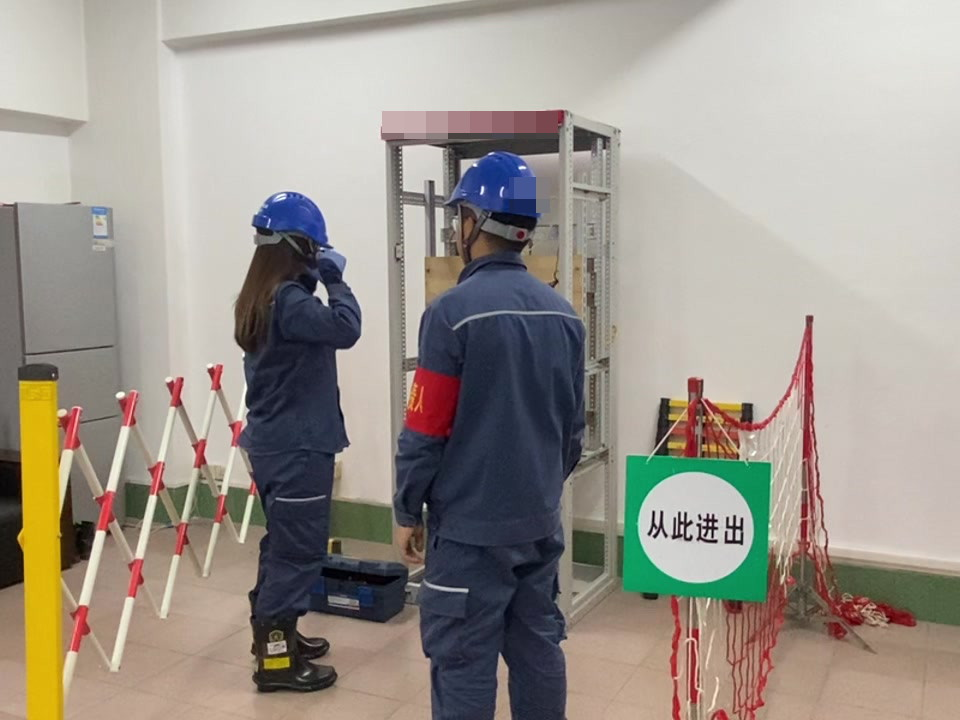badge: (404, 367, 463, 440)
downsuit: (417, 548, 571, 720), (245, 460, 340, 630)
glove: (300, 245, 348, 283)
hair: (233, 190, 329, 352)
halt: (446, 151, 546, 254)
hand: (394, 524, 428, 567)
inear: (454, 203, 491, 251)
intosign: (615, 446, 777, 609)
person: (391, 145, 594, 720), (226, 190, 366, 695)
shoe: (252, 617, 339, 693)
upsuit: (393, 258, 589, 541), (235, 253, 363, 452)
